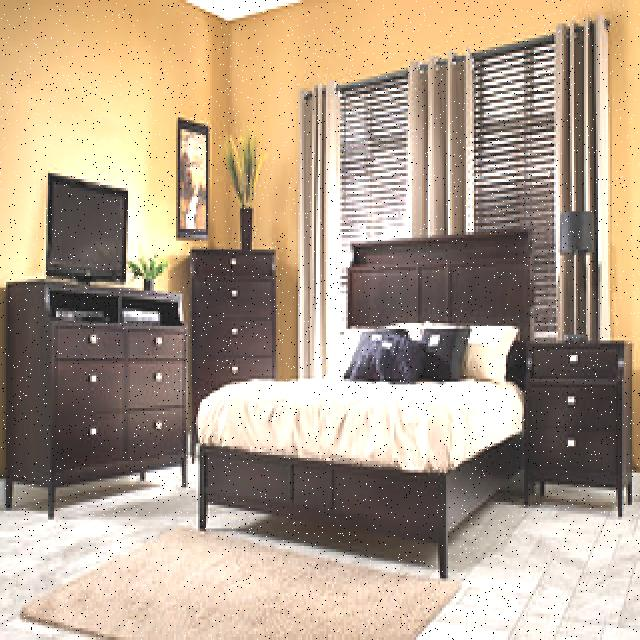bed: (198, 223, 532, 543)
